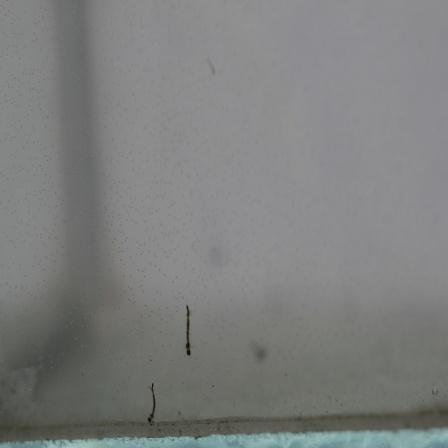Jentik-Nyamuk: (140, 377, 162, 425), (180, 305, 196, 361)
